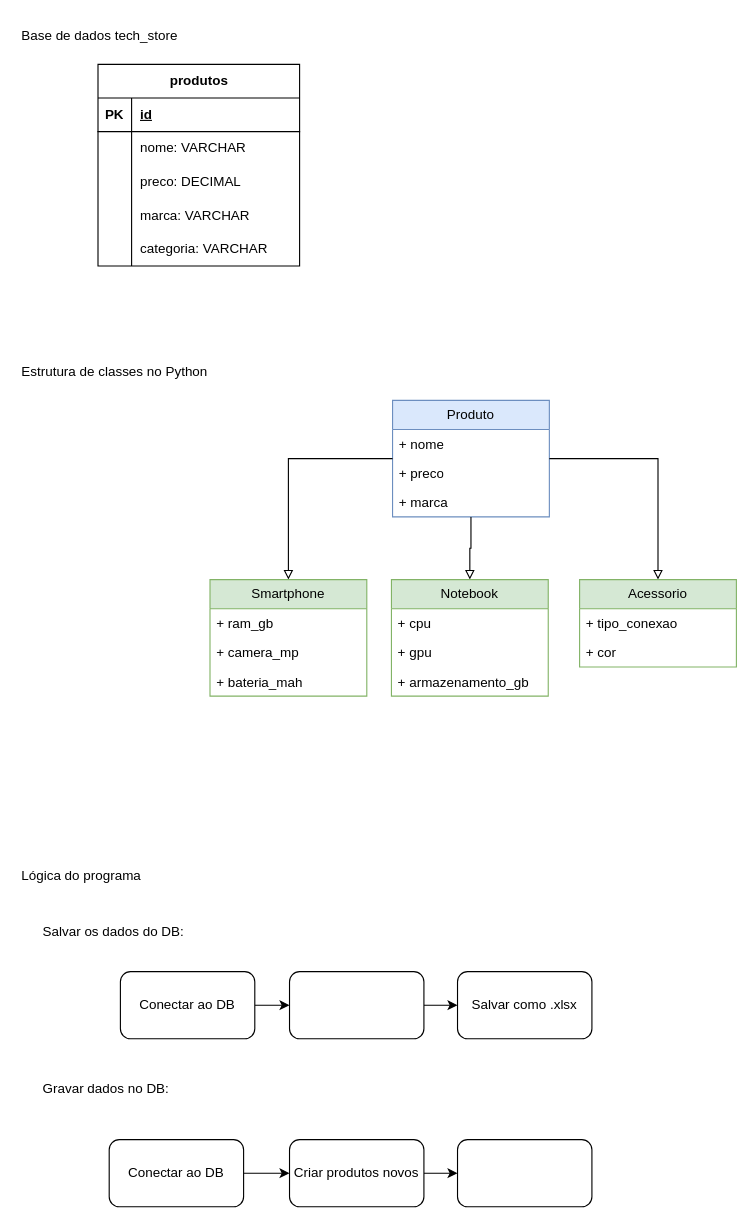
Some shapes in this 756 by 1226 pixel diagram are drawn without their labels. The shapes that lost their labels are listed below. From the top down, each one's centre as x and y in pixels, then its label:
At [356,1004]: "Obter todos os produtos".
At [524,1172]: "Salvar no DB".
